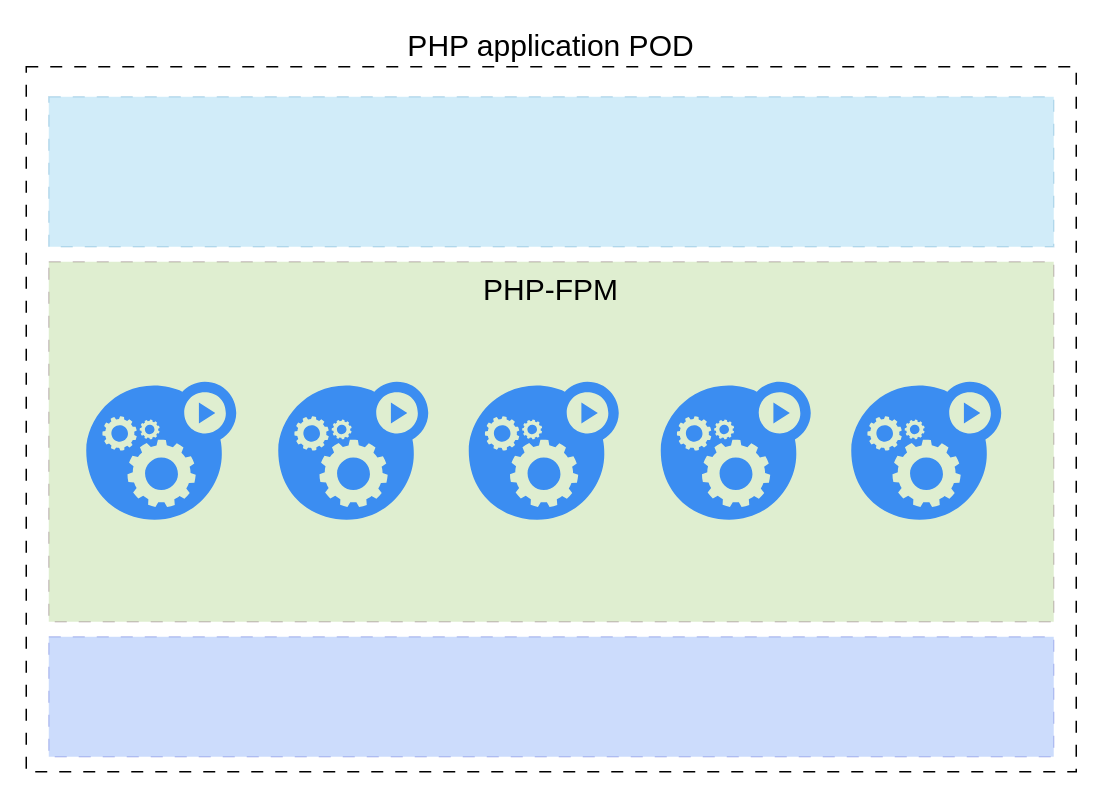
The diagram is 1103 pixels wide and 798 high, and some of its shapes have lost their labels. Here are the shapes that lost their labels. From the top down, the centre of each, then its label:
At [550,171]: "NGINX".
At [550,696]: "NewRelic".
